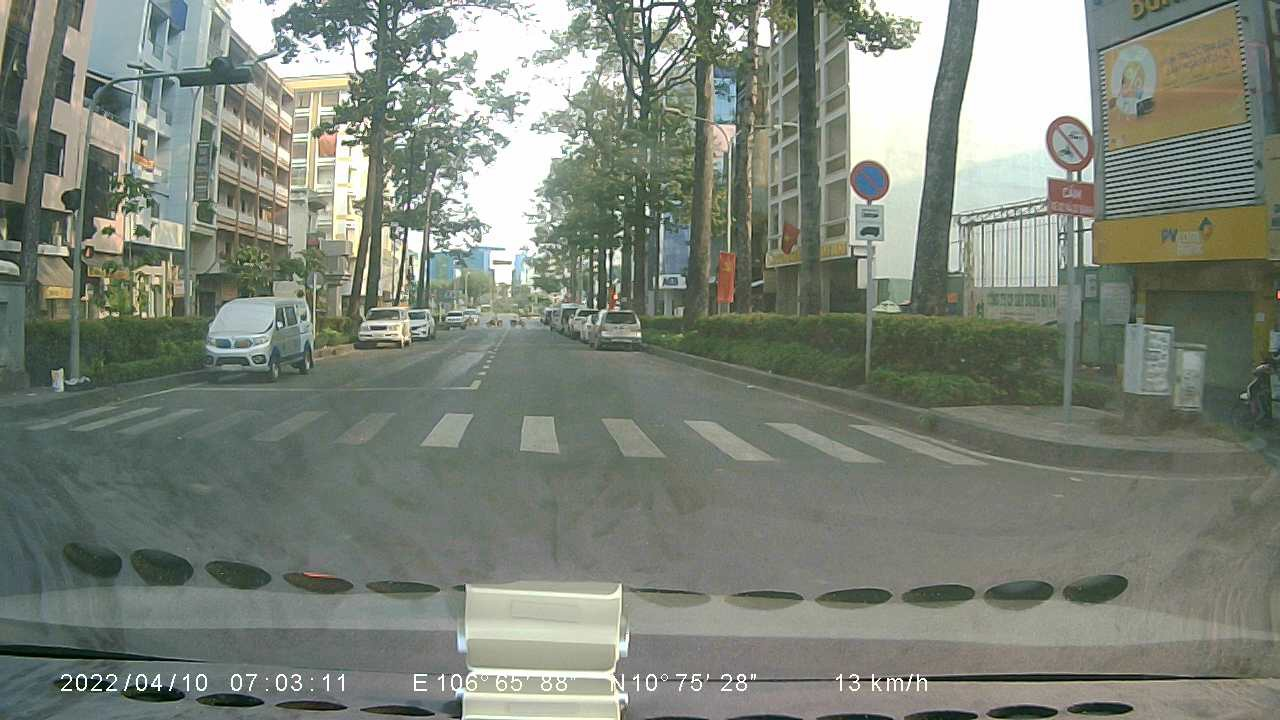Bien khac: (1045, 109, 1100, 172)
Cam do xe: (845, 158, 892, 204)
